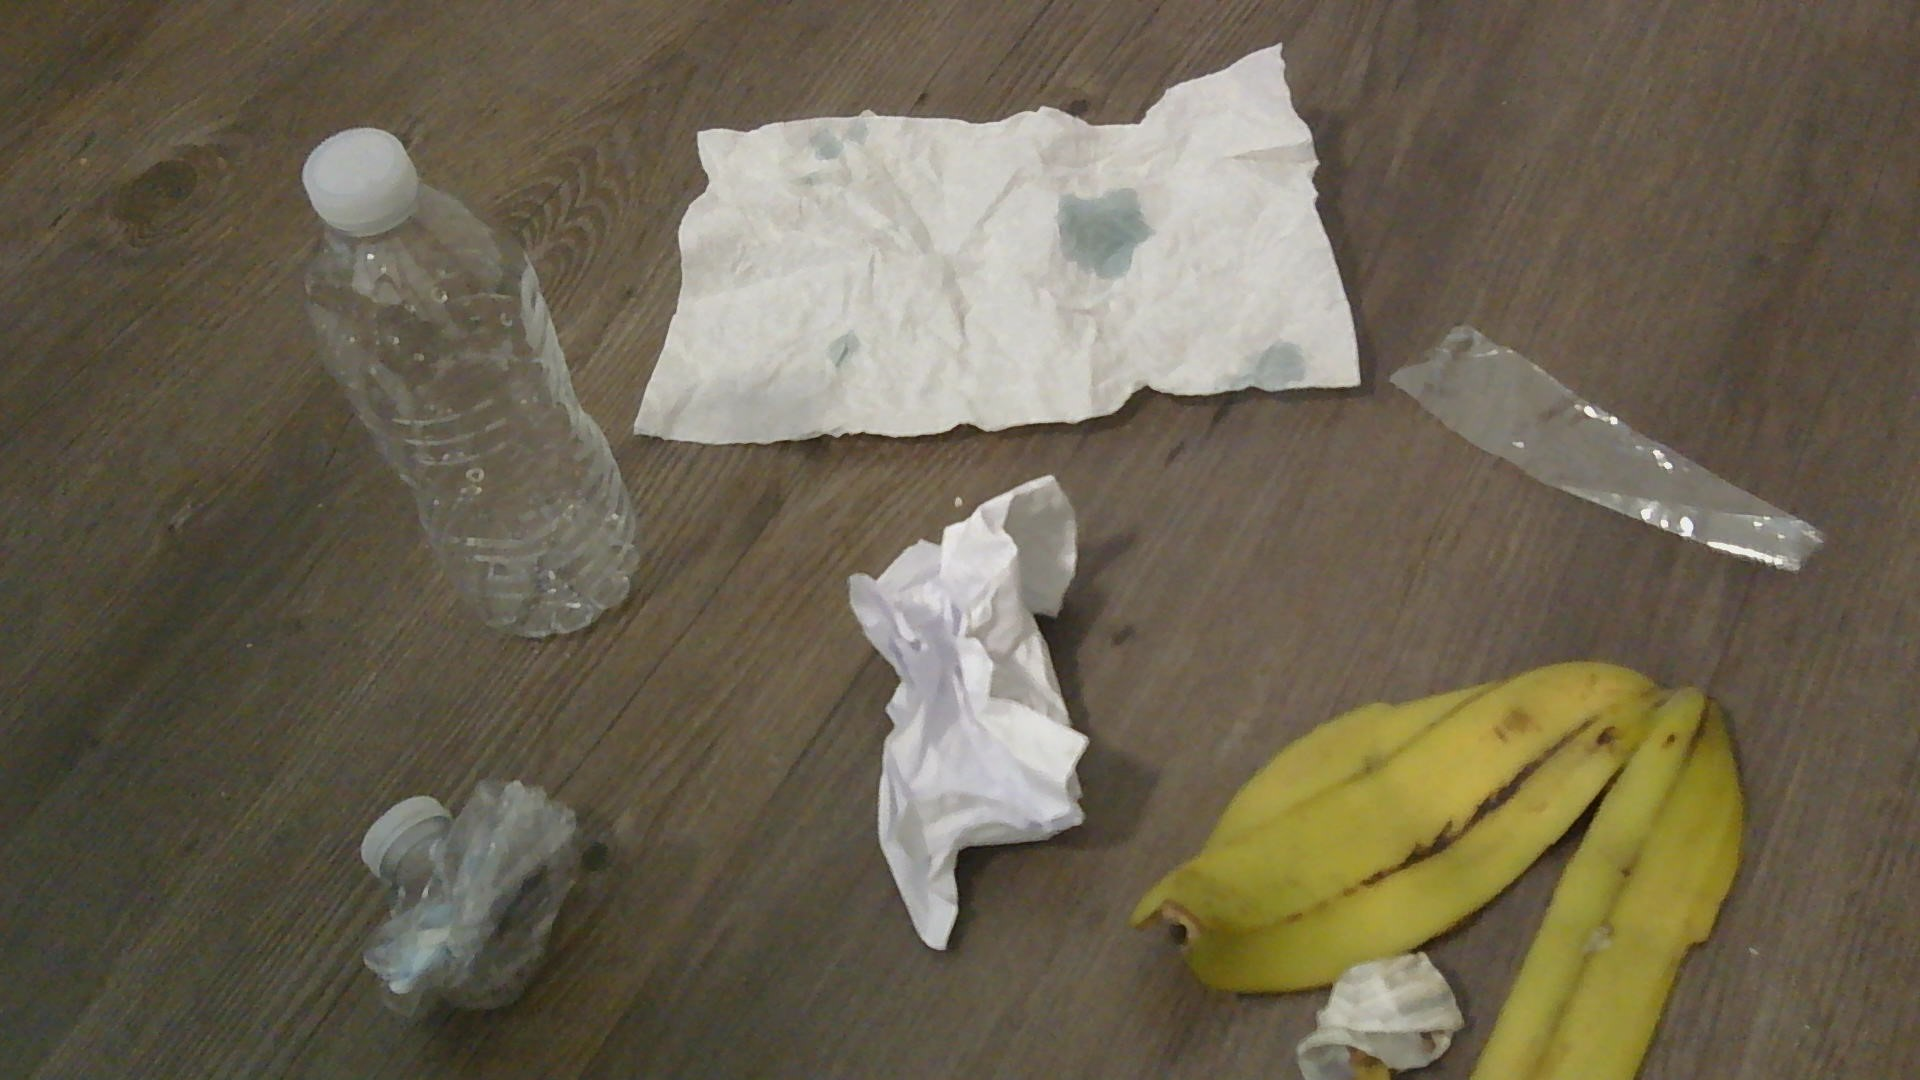banana peel: (1137, 665, 1739, 1077)
bottle: (294, 127, 640, 640)
crushed bottle: (353, 774, 603, 1011)
napkin: (630, 42, 1360, 447)
paper: (847, 473, 1083, 951), (1298, 953, 1461, 1079)
plastic piece: (1386, 318, 1826, 567)
